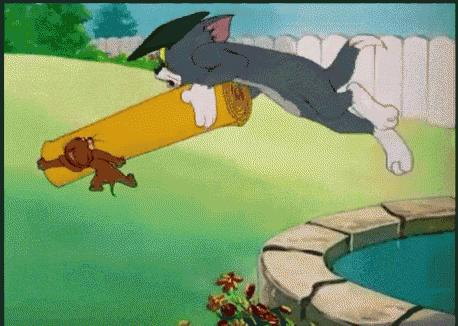jerry: (36, 135, 140, 197)
